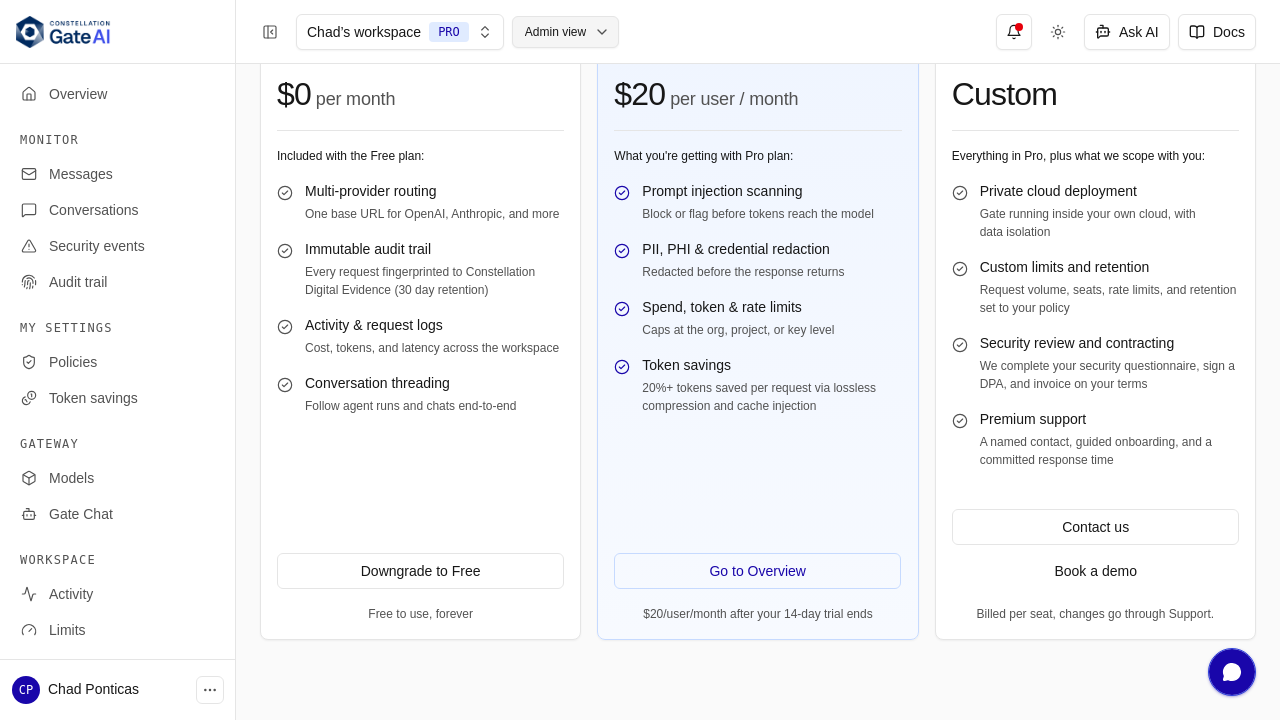
it: the buttons open a dialog rather than navigating › /billing/plans: Contact us opens a dialog
The image size is (1280, 720).
(page scrolled)
Click the button "Contact us": coordinates (1095, 527) top-left (952, 509), bottom-right (1239, 545)
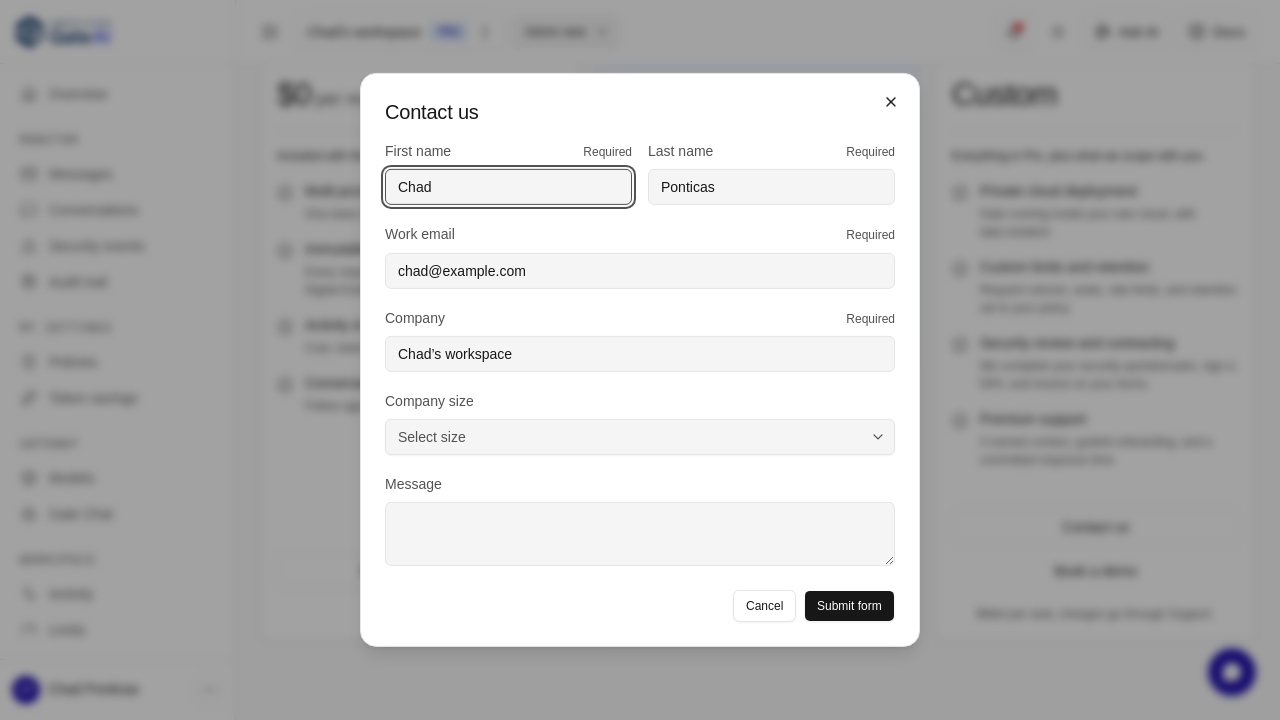
Expected: the dialog is shown, top-left (360, 73), bottom-right (920, 647)
